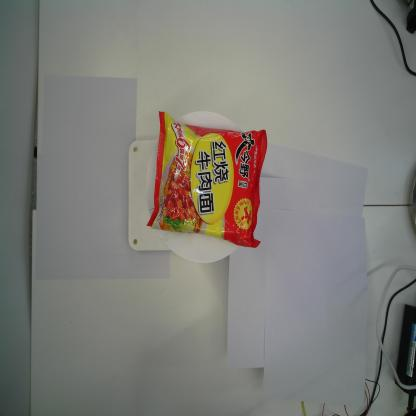Instant Noodles: (146, 110, 268, 248)
